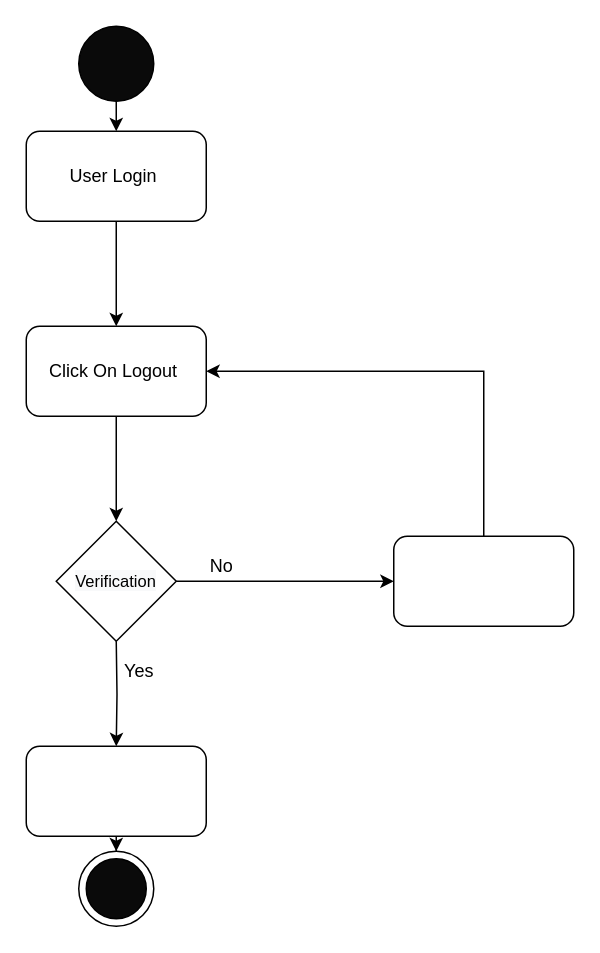
The diagram is 600 pixels wide and 953 high, and some of its shapes have lost their labels. Each missing label, with the box of its shape:
Go back to the Page: (392, 535, 574, 626)
Logout Successfully: (25, 745, 206, 836)
